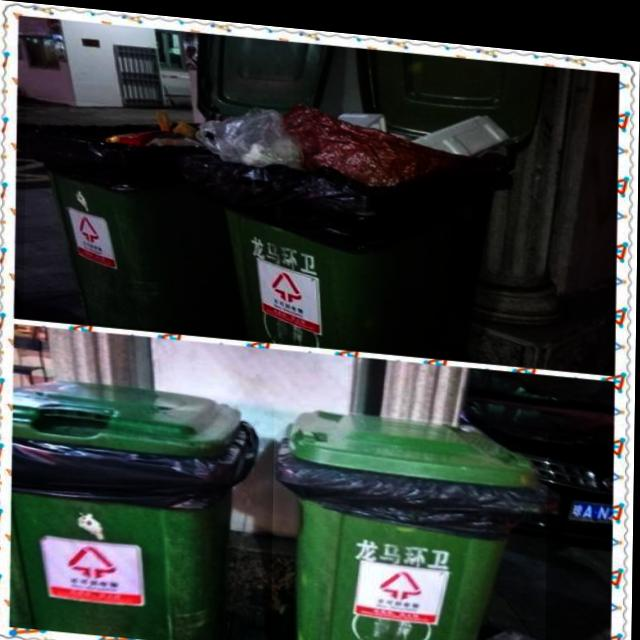garbage_bin: (273, 399, 550, 640), (11, 375, 260, 640)
overflow: (188, 84, 510, 353), (24, 96, 246, 333)
